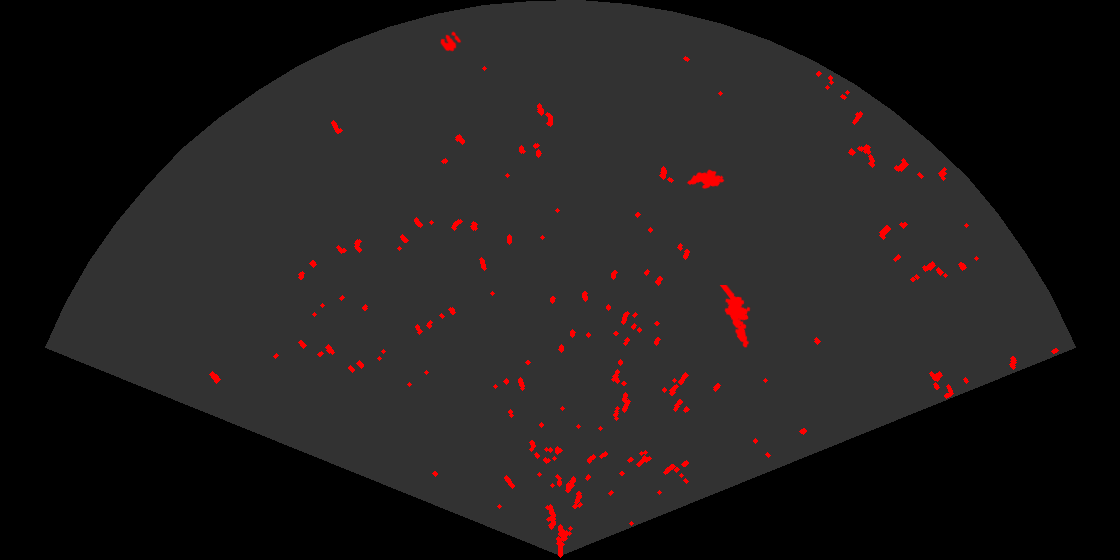AUV: (685, 168, 726, 190)
ball: (439, 30, 463, 53)
frogman: (718, 285, 752, 349)
